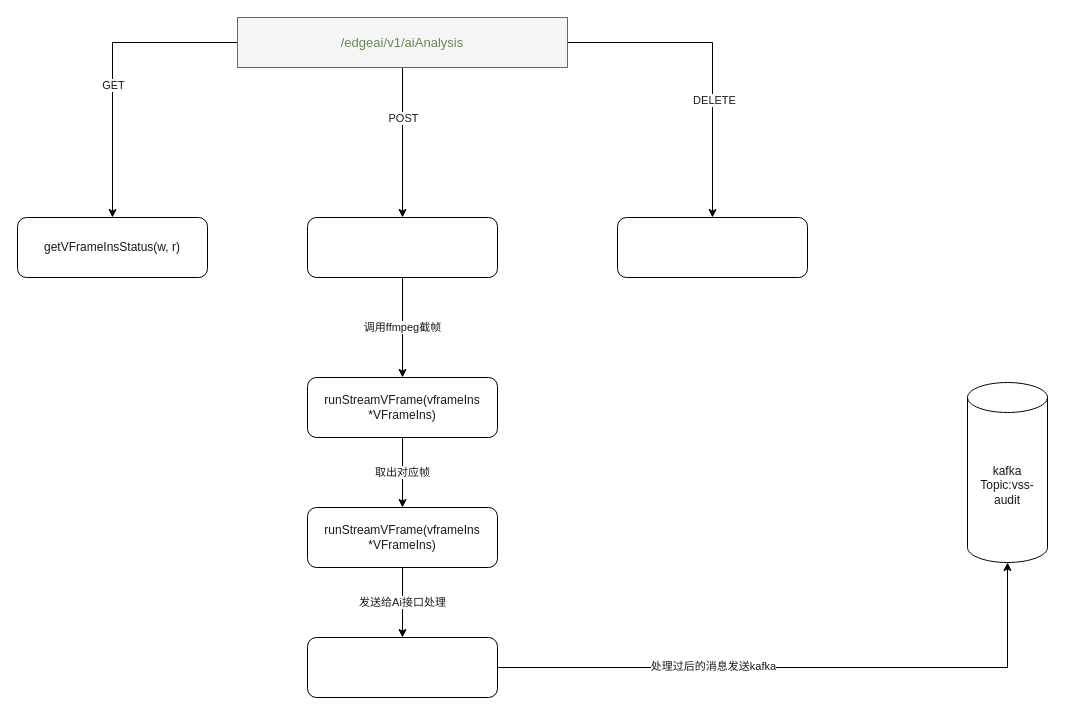
Some shapes in this 1065 by 715 pixel diagram are drawn without their labels. The centre of each missing label's shape, as x and y in pixels:
"closeVFrameIns(w, r)" goes at (712,247).
"doVFrame(w, r)" goes at (402,247).
"SendDataToAi" goes at (402,667).
